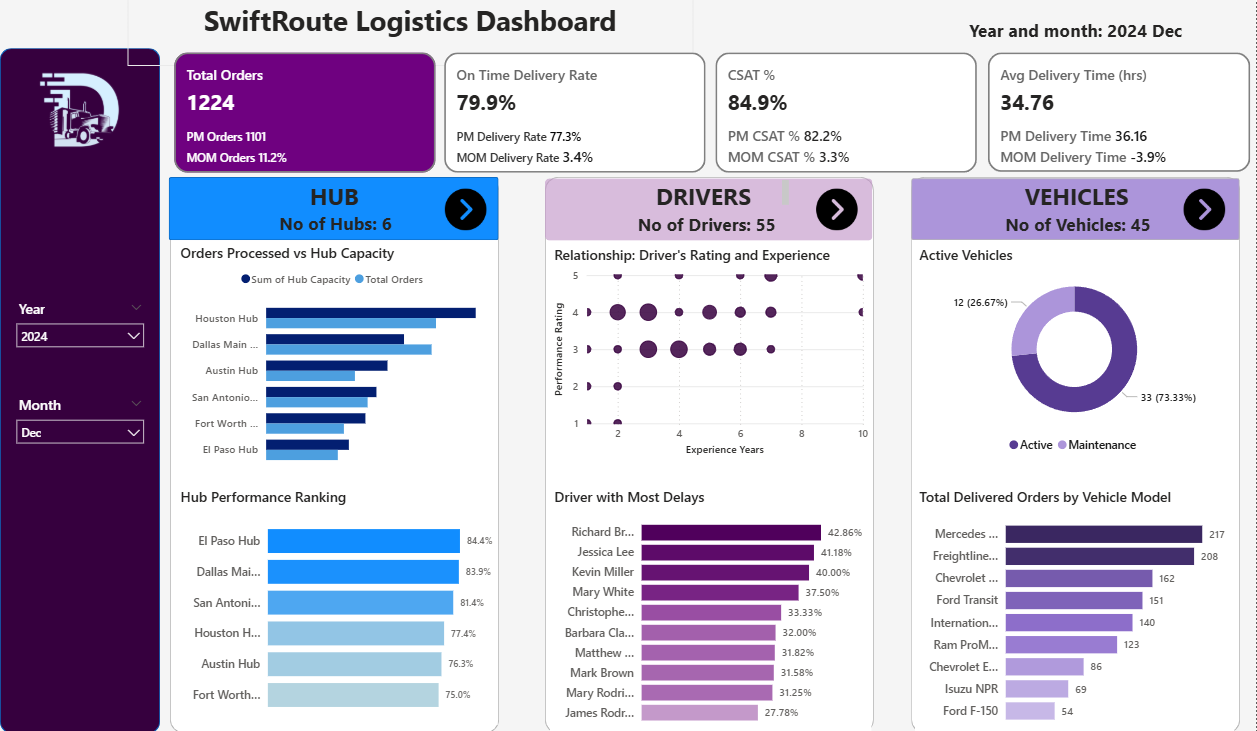

The dashboard page shown, as its layout file describes it:
{"tool":"powerbi","page":{"name":"Business Overview","canvas":[1450,850],"ordinal":0},"visuals":[{"type":"shape","box":[0,59.2,184.8,791.1],"z":0},{"type":"textbox","box":[147.7,0,652.9,79.3],"z":1000},{"type":"slicer","fields":{"Values":["Dim_date.Year"]},"box":[9.3,343.5,167.9,80.8],"z":2000},{"type":"slicer","fields":{"Values":["Dim_date.Month"]},"box":[9.3,455.5,167.9,80.8],"z":3000},{"type":"cardVisual","fields":{"Data":["#measures.Total Orders"]},"box":[195.9,59.1,312.4,149.2],"z":4000},{"type":"cardVisual","fields":{"Data":["#measures.On Time Delivery Rate"]},"box":[508.3,59.1,312.4,149.2],"z":5000},{"type":"cardVisual","fields":{"Data":["#measures.CSAT %"]},"box":[820.8,59.1,312.4,149.2],"z":6000},{"type":"cardVisual","fields":{"Data":["#measures.Avg Delivery Time (hrs)"]},"box":[1136.1,59.2,313.3,148.7],"z":7000},{"type":"shape","box":[196,208,380,642],"z":8000},{"type":"shape","box":[194.3,208.3,380.8,73.1],"z":9000},{"type":"textbox","box":[286,206.7,200.5,52.9],"z":10000},{"type":"card","fields":{"Values":["#measures.Total Hubs"]},"box":[287.3,244,200.7,37.5],"z":11000},{"type":"clusteredBarChart","title":"Orders Processed vs Hub Capacity","fields":{"Category":["Hubs.HubName"],"Y":["Sum(Hubs.Hub Capacity)","#measures.Total Orders"]},"box":[203.6,284.4,363.8,268.5],"z":12000},{"type":"barChart","title":"Hub Performance Ranking","fields":{"Category":["Hubs.HubName"],"Y":["#measures.On Time Delivery Rate"]},"box":[203.6,565.9,371,274.3],"z":13000},{"type":"shape","box":[629.4,207.9,379.7,642.4],"z":14000},{"type":"shape","box":[1052.4,207.9,379.7,642.4],"z":15000},{"type":"shape","box":[629.4,209.3,378.2,72.2],"z":16000},{"type":"textbox","box":[718.2,206.7,199,42],"z":17000},{"type":"card","fields":{"Values":["#measures.No of Drivers"]},"box":[716.6,245.6,200.5,37.3],"z":18000},{"type":"scatterChart","title":"Relationship: Driver''s Rating and Experience","fields":{"X":["Drivers.Experience Years"],"Size":["CountNonNull(Drivers.Performance Rating)1"],"Y":["Drivers.Performance Rating"]},"box":[635.2,285.8,372.5,249.7],"z":19000},{"type":"barChart","title":"Driver with Most Delays","fields":{"Category":["Drivers.DriverName"],"Y":["#measures.Delayed_delivery_rate_%"]},"box":[635.8,565.8,371.5,284.5],"z":20000},{"type":"shape","box":[1052.4,209.9,379.3,71.5],"z":21000},{"type":"textbox","box":[1144.1,206.7,197.4,54.4],"z":22000},{"type":"card","fields":{"Values":["#measures.No of Vehicles"]},"box":[1144.1,245.6,200.5,37.3],"z":23000},{"type":"barChart","fields":{"Category":["Vehicles.Vehicle Model"],"Y":["#measures.Total Delivered Orders"]},"box":[1057,565.8,368.4,284.5],"z":24000},{"type":"donutChart","title":"Active Vehicles ","fields":{"Category":["Vehicles.Vehicle Status"],"Y":["CountNonNull(Vehicles.Vehicle ID)"]},"box":[1057,286,368.4,250.3],"z":25000},{"type":"card","fields":{"Values":["#measures.selected_year_and_month"]},"box":[1064.8,21.8,354.4,37.3],"z":26000},{"type":"image","box":[26.4,73.1,133.7,121.2],"z":27000},{"type":"image","box":[508.2,216.5,59.2,57.7],"z":28000},{"type":"image","box":[936.9,216.5,59.2,57.7],"z":29000},{"type":"image","box":[1361.3,216.5,59.2,57.7],"z":30000}]}

Visuals, with their boxes in screenshot pixels (x1, y1, x2, y2), scaled from the page's 1450x850 canvas onto the 1257x731 screenshot:
shape: Rect(0, 51, 160, 730)
textbox: Rect(128, 0, 694, 68)
slicer - Dim_date.Year: Rect(8, 295, 154, 365)
slicer - Dim_date.Month: Rect(8, 392, 154, 461)
cardVisual - #measures.Total Orders: Rect(170, 51, 441, 179)
cardVisual - #measures.On Time Delivery Rate: Rect(441, 51, 711, 179)
cardVisual - #measures.CSAT %: Rect(712, 51, 982, 179)
cardVisual - #measures.Avg Delivery Time (hrs): Rect(985, 51, 1256, 179)
shape: Rect(170, 179, 499, 730)
shape: Rect(168, 179, 499, 242)
textbox: Rect(248, 178, 422, 223)
card - #measures.Total Hubs: Rect(249, 210, 423, 242)
"Orders Processed vs Hub Capacity" clusteredBarChart: Rect(177, 245, 492, 475)
"Hub Performance Ranking" barChart: Rect(177, 487, 498, 723)
shape: Rect(546, 179, 875, 730)
shape: Rect(912, 179, 1241, 730)
shape: Rect(546, 180, 873, 242)
textbox: Rect(623, 178, 795, 214)
card - #measures.No of Drivers: Rect(621, 211, 795, 243)
"Relationship: Driver''s Rating and Experience" scatterChart: Rect(551, 246, 874, 461)
"Driver with Most Delays" barChart: Rect(551, 487, 873, 730)
shape: Rect(912, 181, 1241, 242)
textbox: Rect(992, 178, 1163, 225)
card - #measures.No of Vehicles: Rect(992, 211, 1166, 243)
barChart - Vehicles.Vehicle Model x #measures.Total Delivered Orders: Rect(916, 487, 1236, 730)
"Active Vehicles " donutChart: Rect(916, 246, 1236, 461)
card - #measures.selected_year_and_month: Rect(923, 19, 1230, 51)
image: Rect(23, 63, 139, 167)
image: Rect(441, 186, 492, 236)
image: Rect(812, 186, 864, 236)
image: Rect(1180, 186, 1231, 236)
